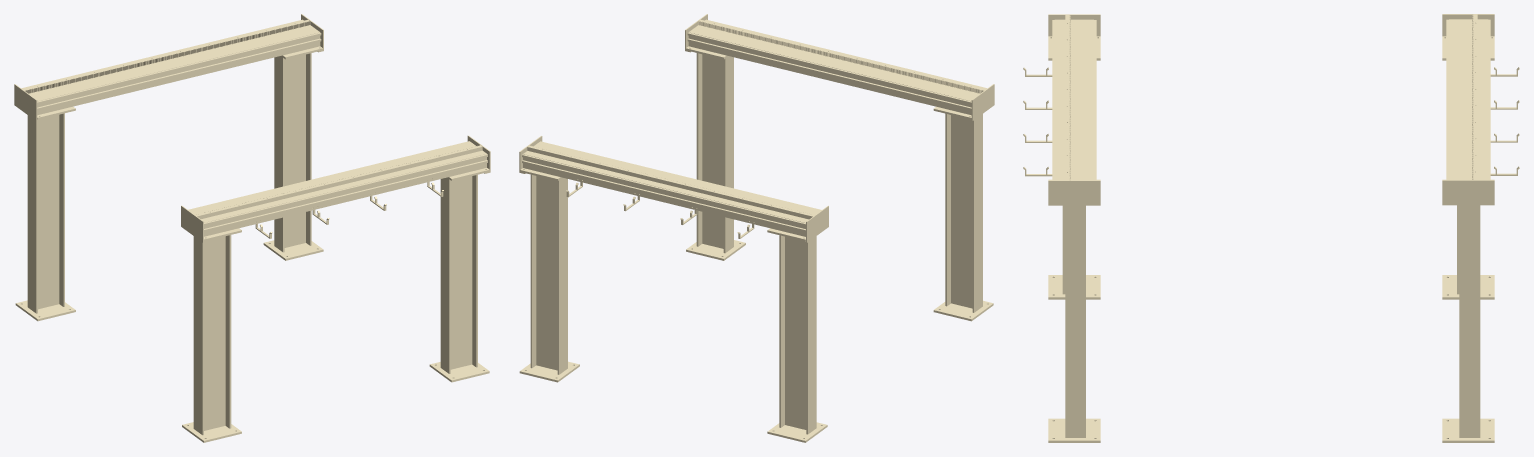
3 views of the same model, side by side, from view 1: azimuth 30°, elevation 25°; view 2: azimuth 150°, elevation 25°; view 3: azimuth 270°, elevation 25° (orthographic). The views are drawn at different scales.
Visible parts, largest first — view 1: base_link; view 2: base_link; view 3: base_link.
Boxes of the visible parts, <box> form: base_link: <box>14,14,490,442</box>; base_link: <box>519,14,994,442</box>; base_link: <box>1023,14,1519,442</box>.
Bounding box in the file's own units: 1.51 × 1.9 × 1.11.
